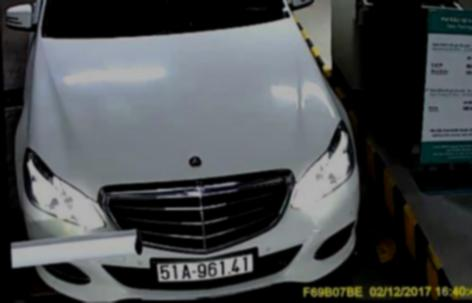License_Plate: (153, 254, 255, 281)
